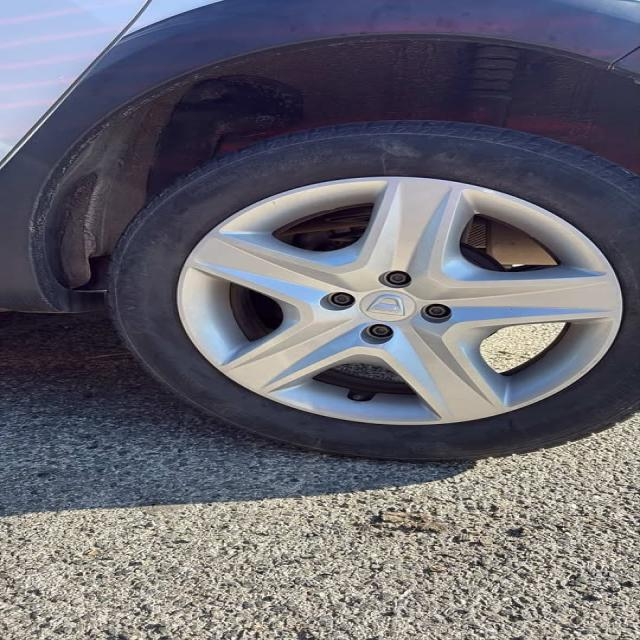jante: (175, 177, 624, 426)
parafuso: (376, 267, 417, 291), (321, 290, 358, 314), (363, 323, 395, 348), (419, 302, 454, 323)
roda: (98, 121, 640, 462)
